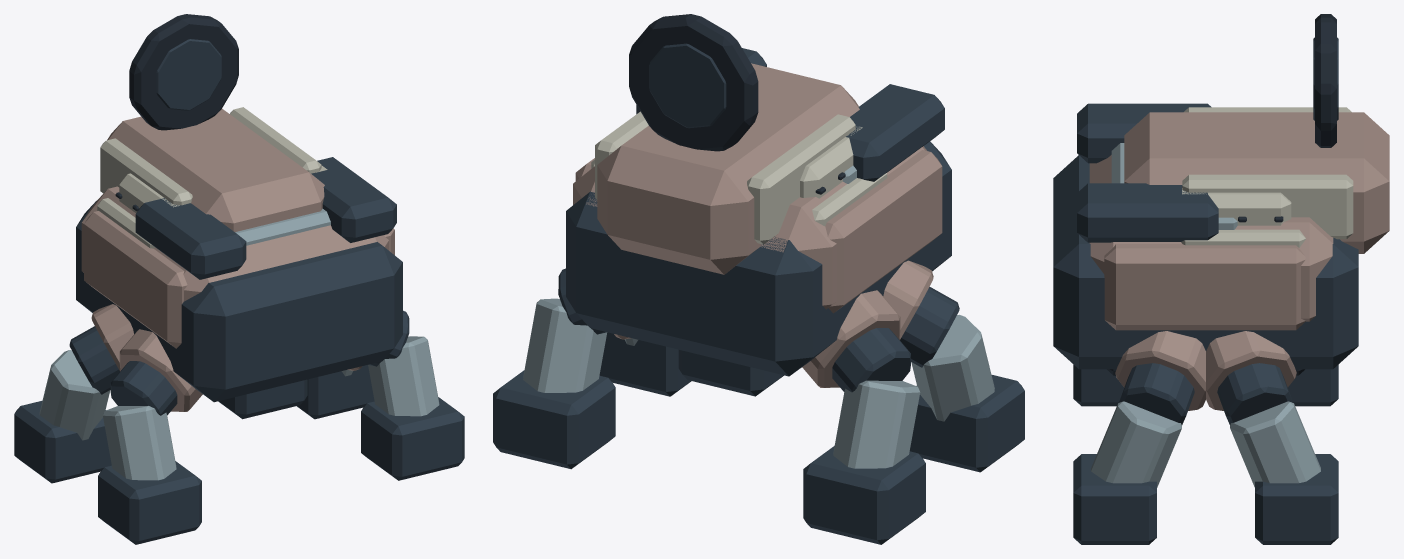
File: mortar.glb
3 views of the same model, side by side, from view 1: azimuth 30°, elevation 25°; view 2: azimuth 150°, elevation 25°; view 3: azimuth 270°, elevation 25° (orthographic). The views are drawn at different scales.
Visible parts, largest first — view 1: L0_Chassis, L0_Weapon, L2_Hip2, L2_Hip3, L2_Hip0, L0_Hip2, L0_Hip0, L2_Hip1, L0_Shin2, L0_Turret; view 2: L0_Chassis, L0_Weapon, L2_Hip0, L2_Hip1, L2_Hip2, L0_Hip0, L0_Hip2, L2_Hip3, L0_Shin0, L0_Turret; view 3: L0_Chassis, L0_Weapon, L2_Hip1, L2_Hip3, L0_Hip1, L0_Hip3, L0_Turret, L2_Hip2, L2_Hip0.
Boxes of the visible parts, x1=… form: L0_Chassis: x1=76, y1=157, x2=402, y2=402; L0_Weapon: x1=100, y1=14, x2=324, y2=231; L2_Hip2: x1=98, y1=406, x2=201, y2=544; L2_Hip3: x1=361, y1=336, x2=464, y2=480; L2_Hip0: x1=14, y1=350, x2=111, y2=483; L0_Hip2: x1=110, y1=329, x2=202, y2=415; L0_Hip0: x1=69, y1=304, x2=133, y2=394; L2_Hip1: x1=296, y1=365, x2=374, y2=419; L0_Shin2: x1=218, y1=379, x2=307, y2=419; L0_Turret: x1=119, y1=165, x2=327, y2=212; L0_Chassis: x1=566, y1=48, x2=951, y2=376; L0_Weapon: x1=595, y1=14, x2=859, y2=274; L2_Hip0: x1=803, y1=380, x2=925, y2=544; L2_Hip1: x1=493, y1=298, x2=615, y2=469; L2_Hip2: x1=909, y1=314, x2=1024, y2=472; L0_Hip0: x1=802, y1=290, x2=910, y2=392; L0_Hip2: x1=883, y1=260, x2=959, y2=367; L2_Hip3: x1=599, y1=332, x2=691, y2=396; L0_Shin0: x1=678, y1=350, x2=783, y2=396; L0_Turret: x1=800, y1=126, x2=862, y2=198; L0_Chassis: x1=1053, y1=103, x2=1358, y2=375; L0_Weapon: x1=1124, y1=14, x2=1389, y2=253; L2_Hip1: x1=1230, y1=401, x2=1338, y2=544; L2_Hip3: x1=1073, y1=401, x2=1181, y2=544; L0_Hip1: x1=1206, y1=331, x2=1296, y2=424; L0_Hip3: x1=1115, y1=331, x2=1205, y2=424; L0_Turret: x1=1182, y1=188, x2=1291, y2=225; L2_Hip2: x1=1073, y1=364, x2=1123, y2=406; L2_Hip0: x1=1288, y1=364, x2=1338, y2=406.
Bounding box in the file's own units: 1.15 × 1.34 × 0.925.
